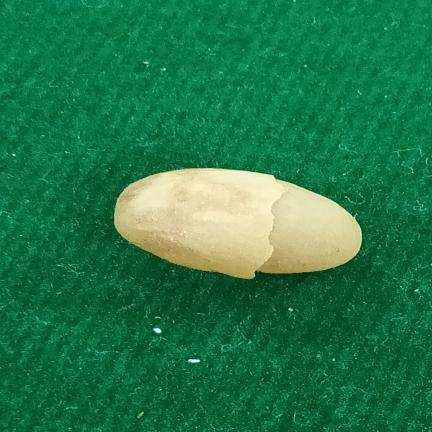parchment: (114, 168, 362, 279)
